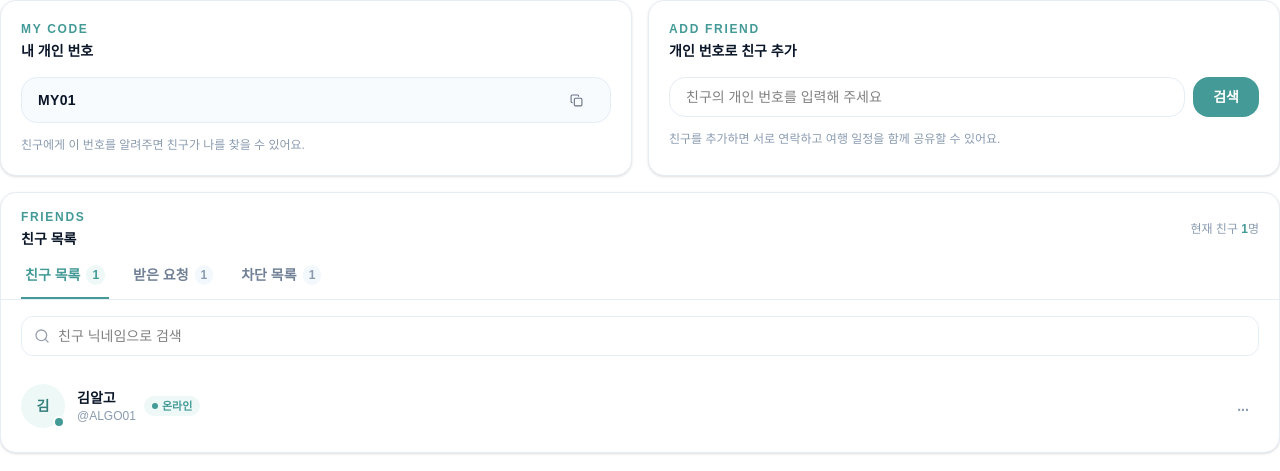
Test case: FriendManagement 컴포넌트 테스트 › 받은 요청 탭으로 전환하면 요청 목록이 표시된다
Expected: the text "김알고" is shown, [77,390,116,406]
Click the button "받은 요청 1" at (173, 282), box [129,265,217,299]
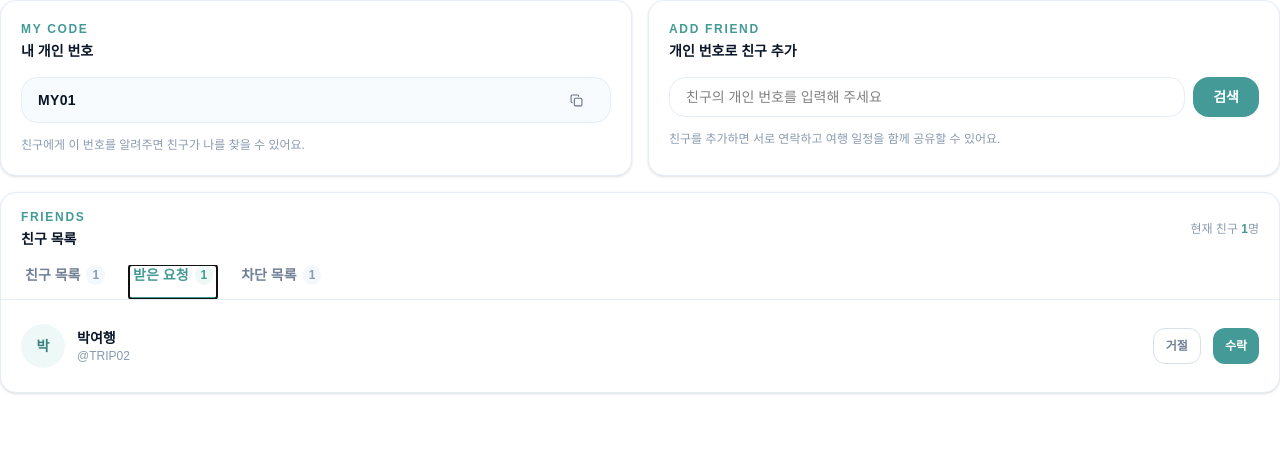
Now the text "박여행" is shown, box [77,330,116,346]
Now the button "수락" is shown, box [1213,328,1259,364]
Now the button "거절" is shown, box [1153,328,1201,364]
